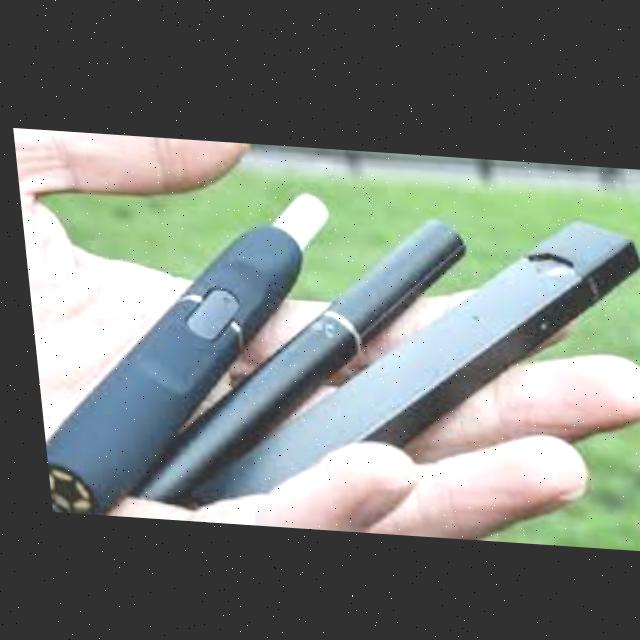vape: (182, 213, 640, 522), (117, 215, 462, 506), (36, 190, 326, 515)
